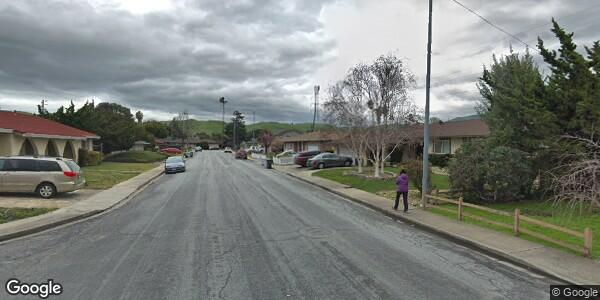Steel_Pole: (418, 1, 436, 210)
